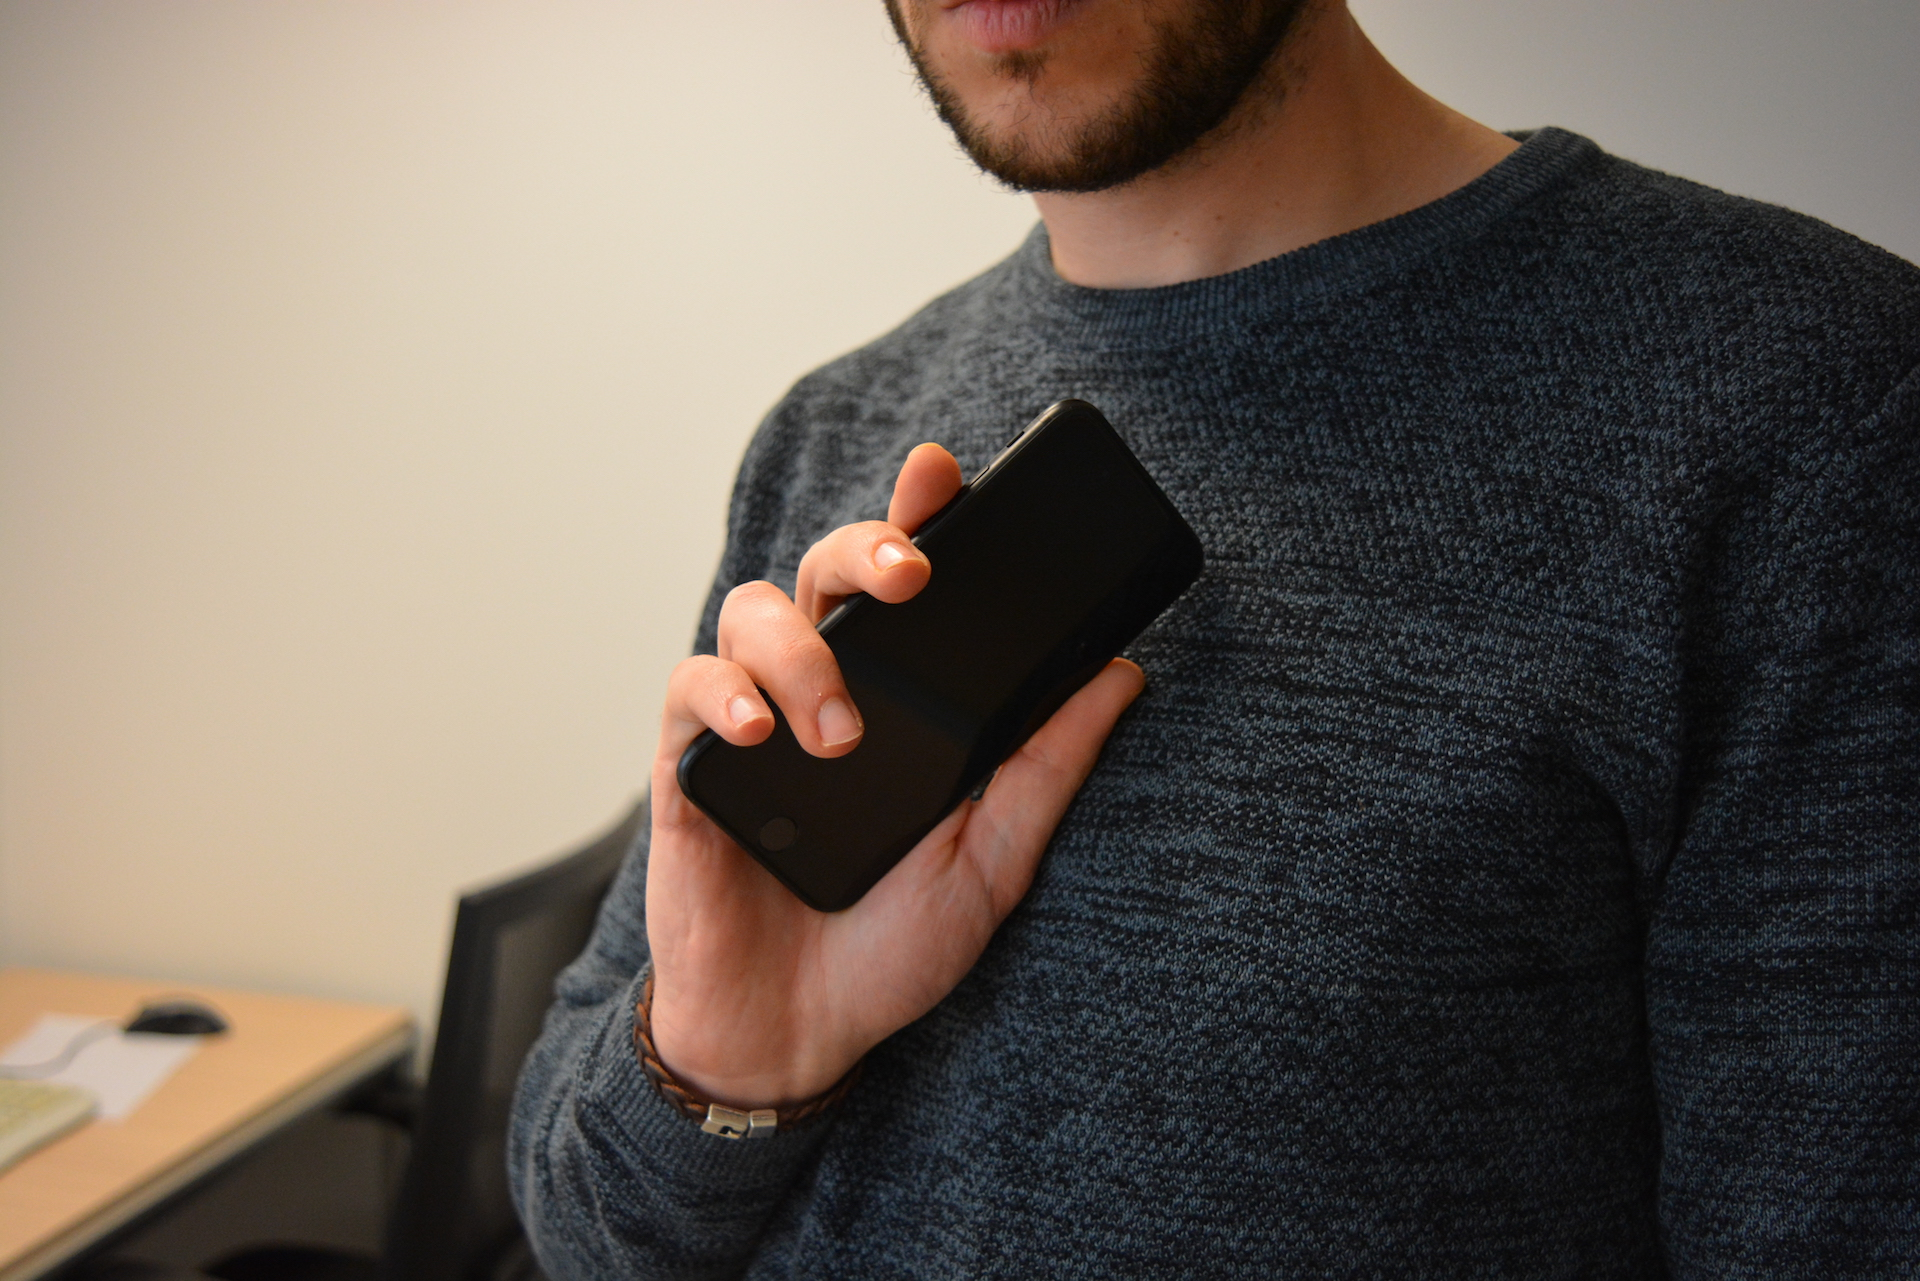smartphone: (675, 397, 1209, 918)
